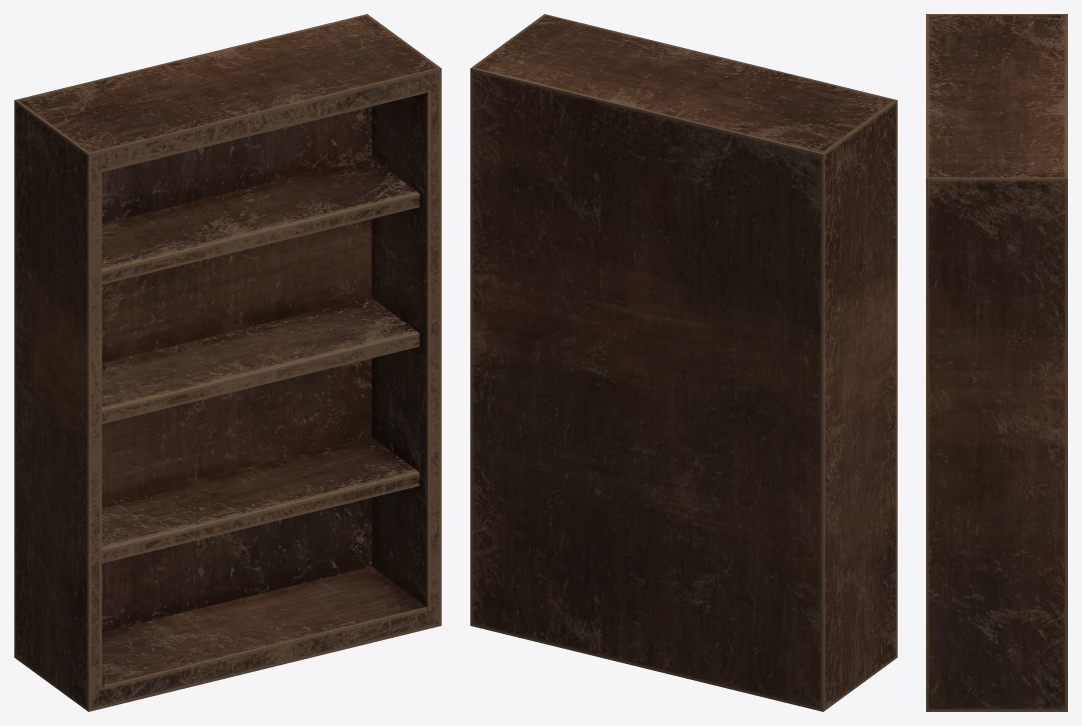
Rendered from bookshelf.glb.
3 views of the same model, side by side, from view 1: azimuth 30°, elevation 25°; view 2: azimuth 150°, elevation 25°; view 3: azimuth 270°, elevation 25° (orthographic). The views are drawn at different scales.
Parts seen in each view (by area): view 1: Book_Self_exported3:Mesh; view 2: Book_Self_exported3:Mesh; view 3: Book_Self_exported3:Mesh.
Part boxes in pixels (<box>): Book_Self_exported3:Mesh: <box>14,14,441,711</box>; Book_Self_exported3:Mesh: <box>470,14,897,711</box>; Book_Self_exported3:Mesh: <box>926,14,1067,711</box>.
Size of the model in its own units: 1.32 by 2 by 0.4822.
1 material, 1 textured.
